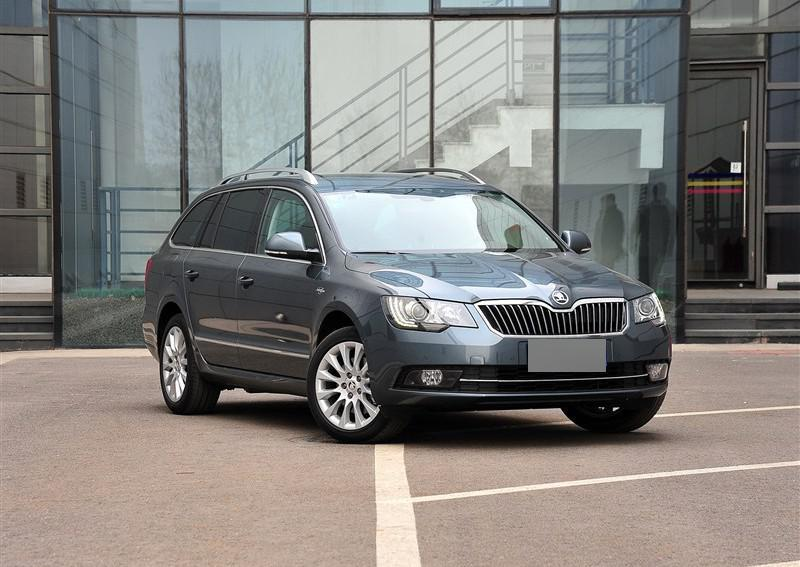Wagon: (139, 166, 672, 444)
